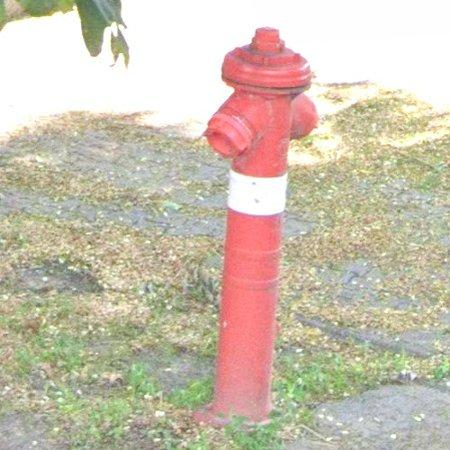a fire hydrant: (205, 27, 319, 422)
